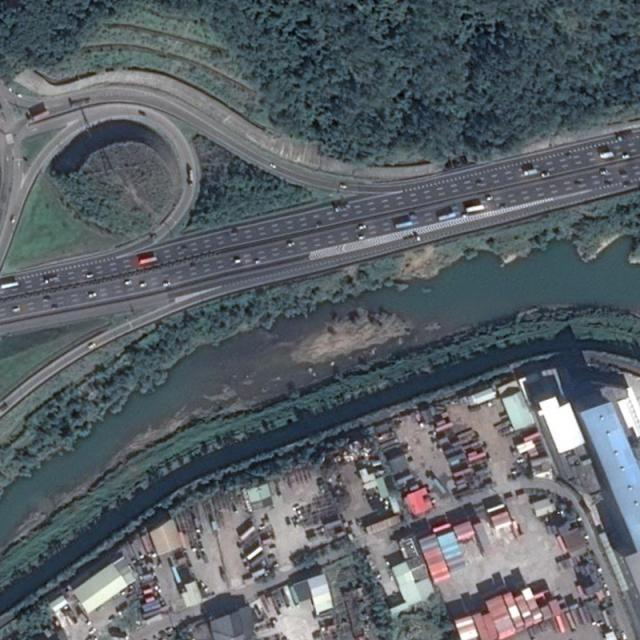vehicle: (426, 473, 448, 494), (29, 111, 50, 124), (70, 98, 91, 108), (334, 204, 351, 214), (79, 614, 92, 627), (404, 236, 421, 245), (466, 205, 484, 213), (617, 133, 633, 142), (0, 281, 18, 289), (138, 258, 158, 265), (437, 214, 455, 221), (394, 222, 412, 229), (599, 151, 614, 159), (188, 169, 194, 187), (524, 169, 538, 176), (88, 342, 98, 350), (339, 185, 350, 190), (45, 278, 56, 283), (541, 172, 550, 178), (89, 292, 98, 298), (270, 163, 277, 170), (1, 405, 8, 412), (486, 196, 494, 202), (42, 297, 51, 302), (141, 282, 148, 288), (622, 154, 630, 159), (234, 259, 242, 264), (287, 242, 295, 247), (358, 225, 366, 230), (600, 170, 608, 175), (13, 307, 21, 312), (125, 280, 132, 285), (621, 172, 628, 177), (86, 274, 94, 278), (163, 282, 170, 286), (255, 260, 262, 264), (12, 216, 16, 223), (624, 182, 629, 187)
